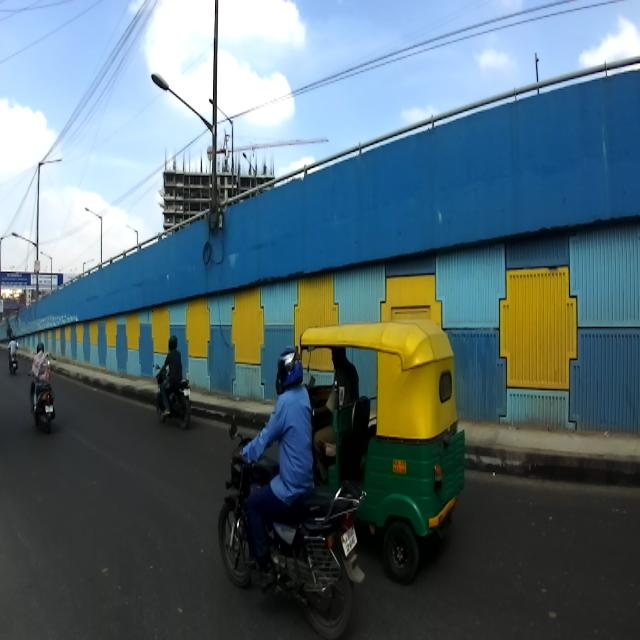motorcycle ahead at: (212, 444, 363, 633), (152, 362, 194, 427), (28, 370, 61, 436)
